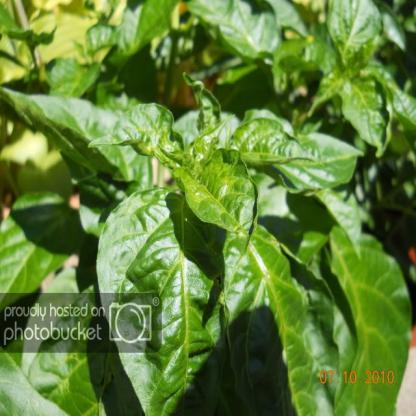Bell_pepper leaf spot: (98, 184, 224, 415), (223, 228, 325, 415), (177, 148, 259, 238), (88, 100, 186, 171), (233, 115, 325, 170), (232, 113, 324, 168)
